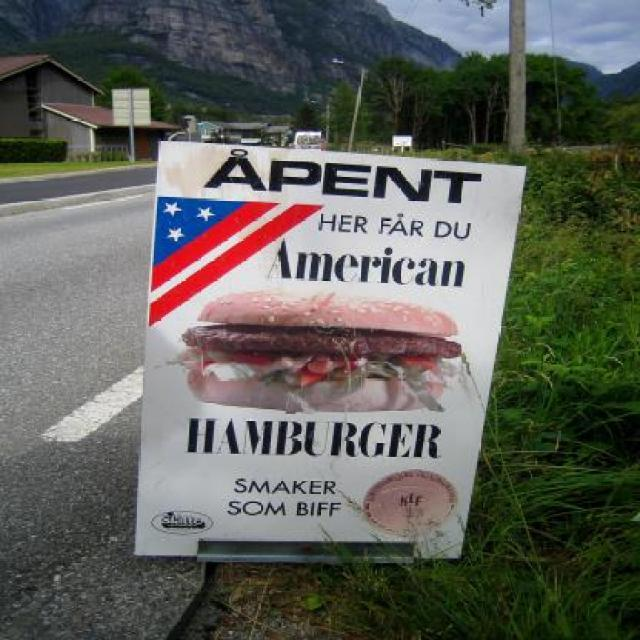Hamburger: (166, 293, 463, 417)
